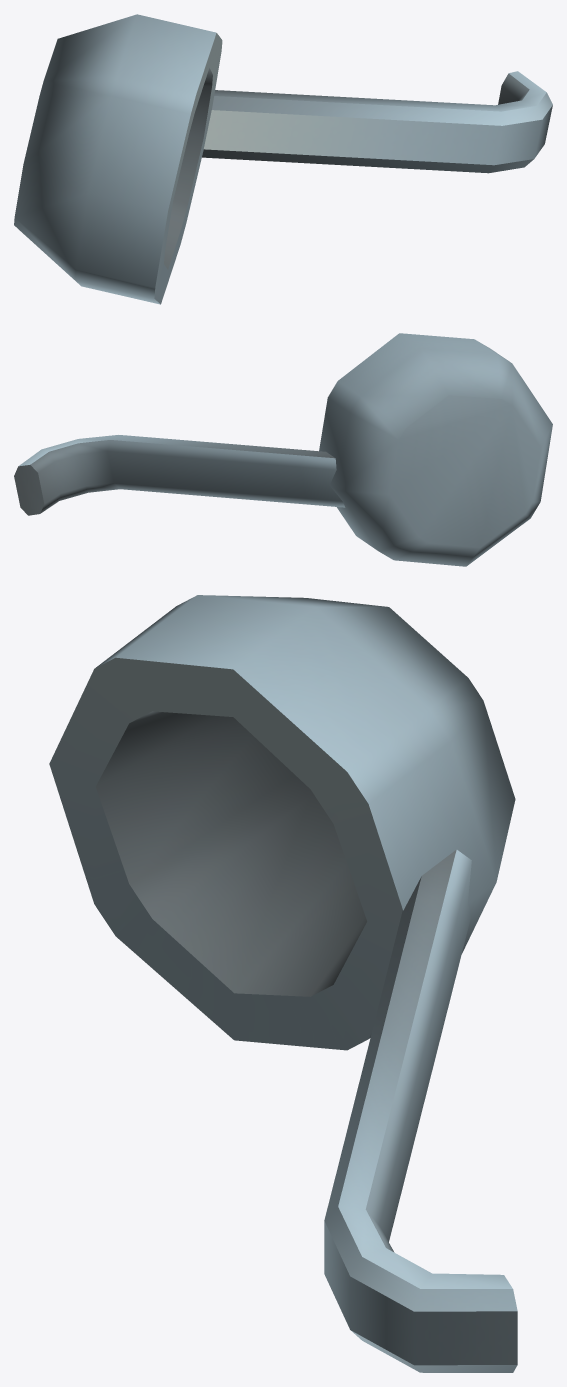
Rendered from laddle_lying_side.fbx.
The picture shows the model from 3 angles, top to bottom: view 1: azimuth 30°, elevation 25°; view 2: azimuth 150°, elevation 25°; view 3: azimuth 270°, elevation 25°; orthographic projection. The views are drawn at different scales.
Parts seen in each view (by area): view 1: laddle_lying_side; view 2: laddle_lying_side; view 3: laddle_lying_side.
Boxes of the visible parts, x1,y1,x2,y2 form: laddle_lying_side: (14,14,552,304); laddle_lying_side: (14,333,552,566); laddle_lying_side: (49,595,517,1372).
Size of the model in its own units: 43.24 by 19.4 by 18.96.
